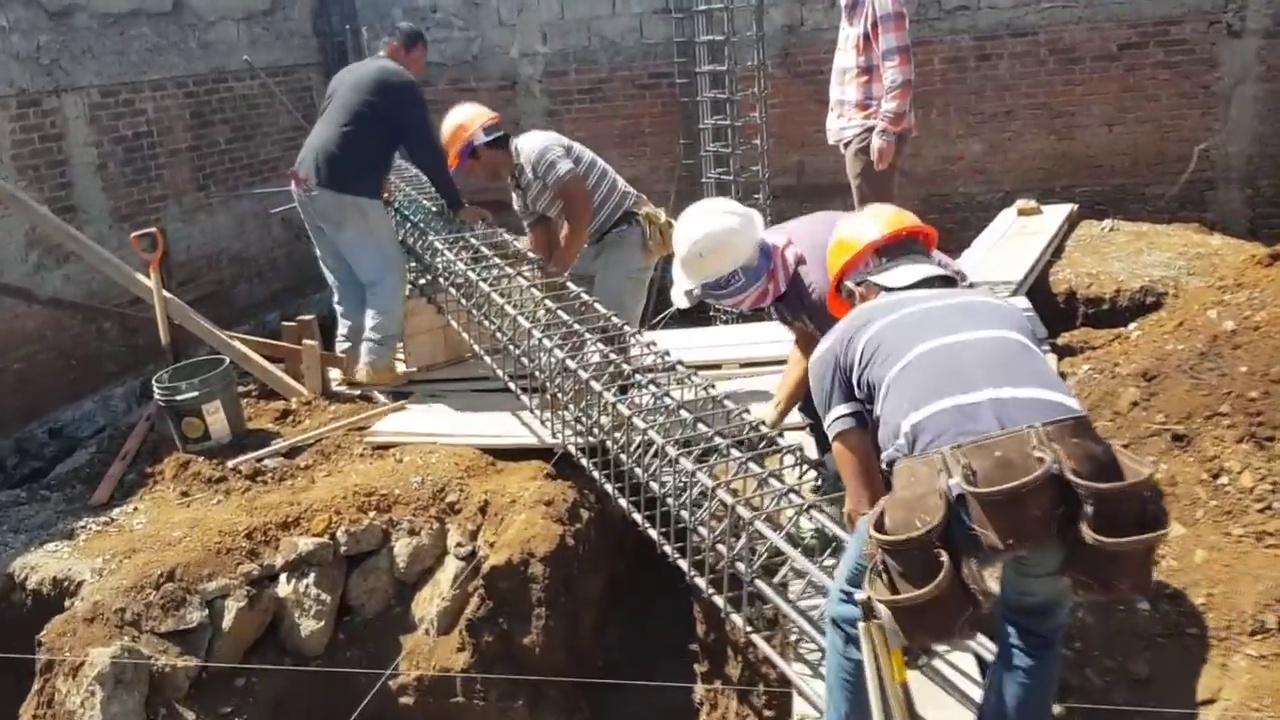helmet: (817, 204, 940, 315), (674, 196, 760, 295), (436, 99, 493, 171)
helmet-off: (376, 19, 427, 79)
helmet-on: (818, 194, 961, 325), (673, 191, 803, 320), (435, 92, 531, 207)
person: (810, 193, 1093, 720), (666, 194, 968, 437), (299, 19, 448, 411), (436, 96, 661, 346), (820, 0, 917, 206)
